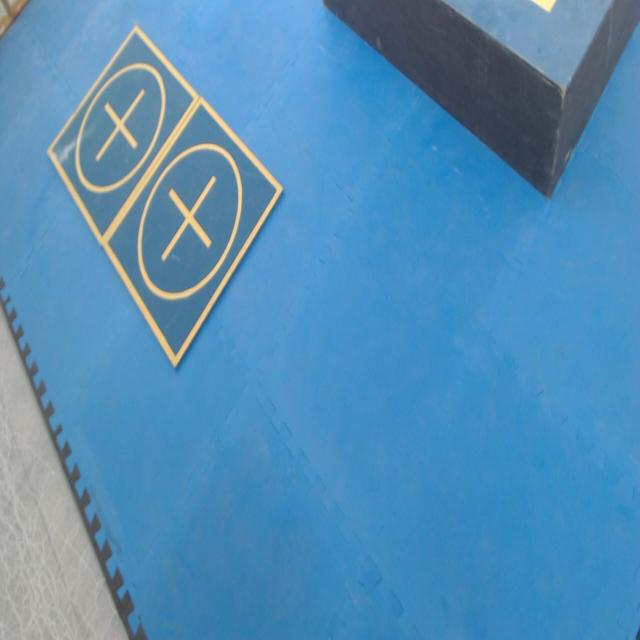base_pouso: (102, 95, 284, 370), (46, 25, 201, 250)
